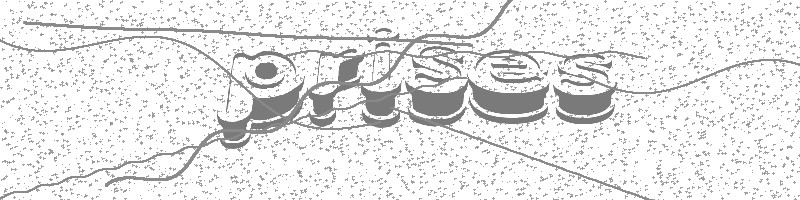e: (468, 45, 551, 124)
i: (359, 24, 404, 129)
p: (217, 48, 304, 150)
r: (307, 44, 364, 131)
s: (403, 44, 469, 126), (552, 50, 616, 125)
